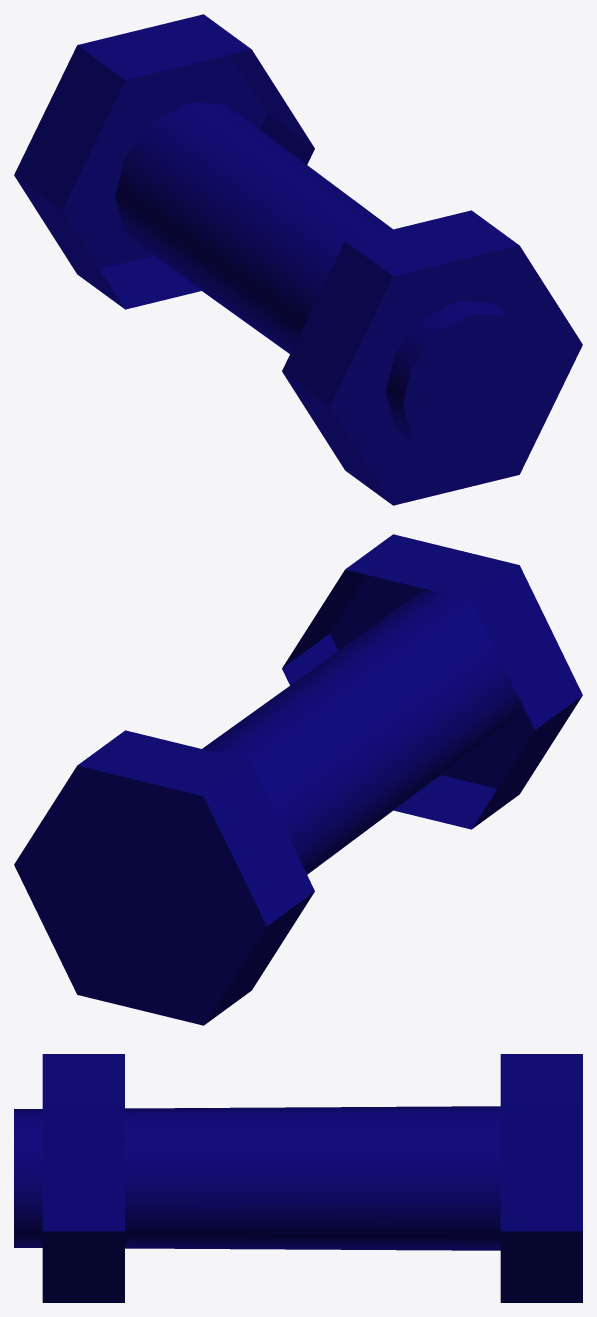
File: sBolt_01_LOD0.FBX
3 renders of one model, top to bottom at view 1: azimuth 30°, elevation 25°; view 2: azimuth 150°, elevation 25°; view 3: azimuth 270°, elevation 25°, orthographic. The views are drawn at different scales.
Parts seen in each view (by area): view 1: Bolt_01_LOD0; view 2: Bolt_01_LOD0; view 3: Bolt_01_LOD0.
Boxes of the visible parts, <box> form: Bolt_01_LOD0: <box>14,14,582,505</box>; Bolt_01_LOD0: <box>14,534,582,1025</box>; Bolt_01_LOD0: <box>14,1054,582,1302</box>.
Bounding box in the file's own units: 1.1 × 0.9526 × 2.51.
